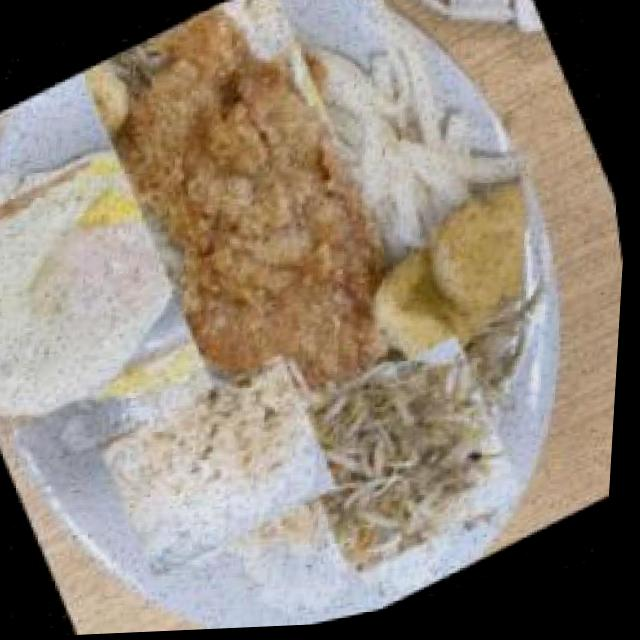chicken_nuggets: (341, 172, 594, 403)
fried_chicken: (62, 0, 453, 457)
fried_eggs: (0, 104, 255, 456)
mung_bean_sprouts: (277, 327, 547, 594)
rice: (97, 342, 353, 596)
